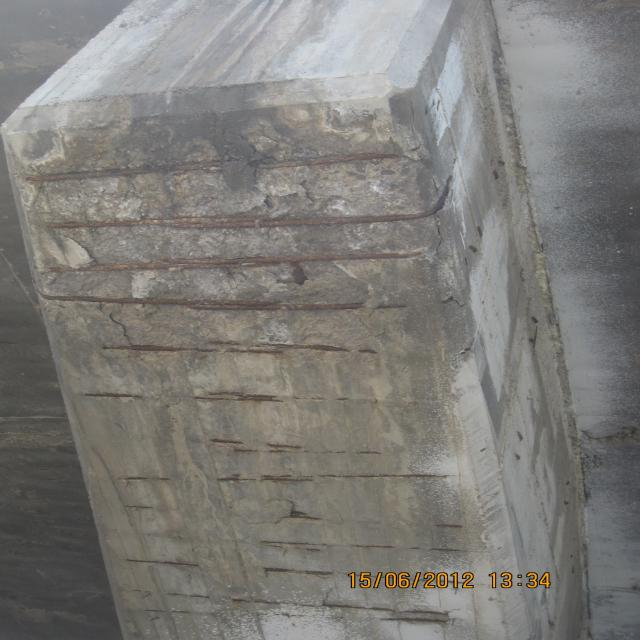corrosion: (21, 141, 612, 640)
